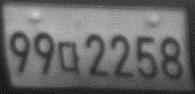2: (109, 33, 136, 79), (85, 33, 110, 78)
5: (136, 35, 158, 80)
8: (160, 36, 185, 81)
9: (33, 31, 56, 75), (9, 30, 31, 74)
다: (56, 40, 82, 76)
